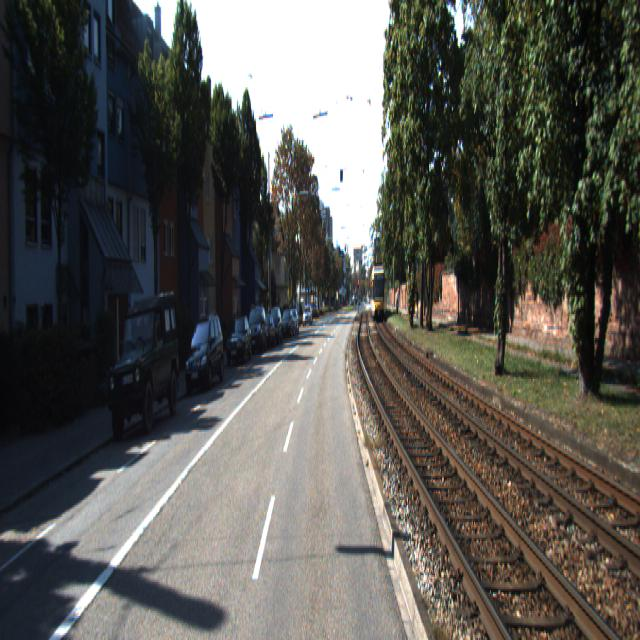Car: (108, 287, 180, 443), (184, 315, 225, 398), (225, 315, 253, 368), (246, 304, 267, 356), (370, 266, 387, 323)
